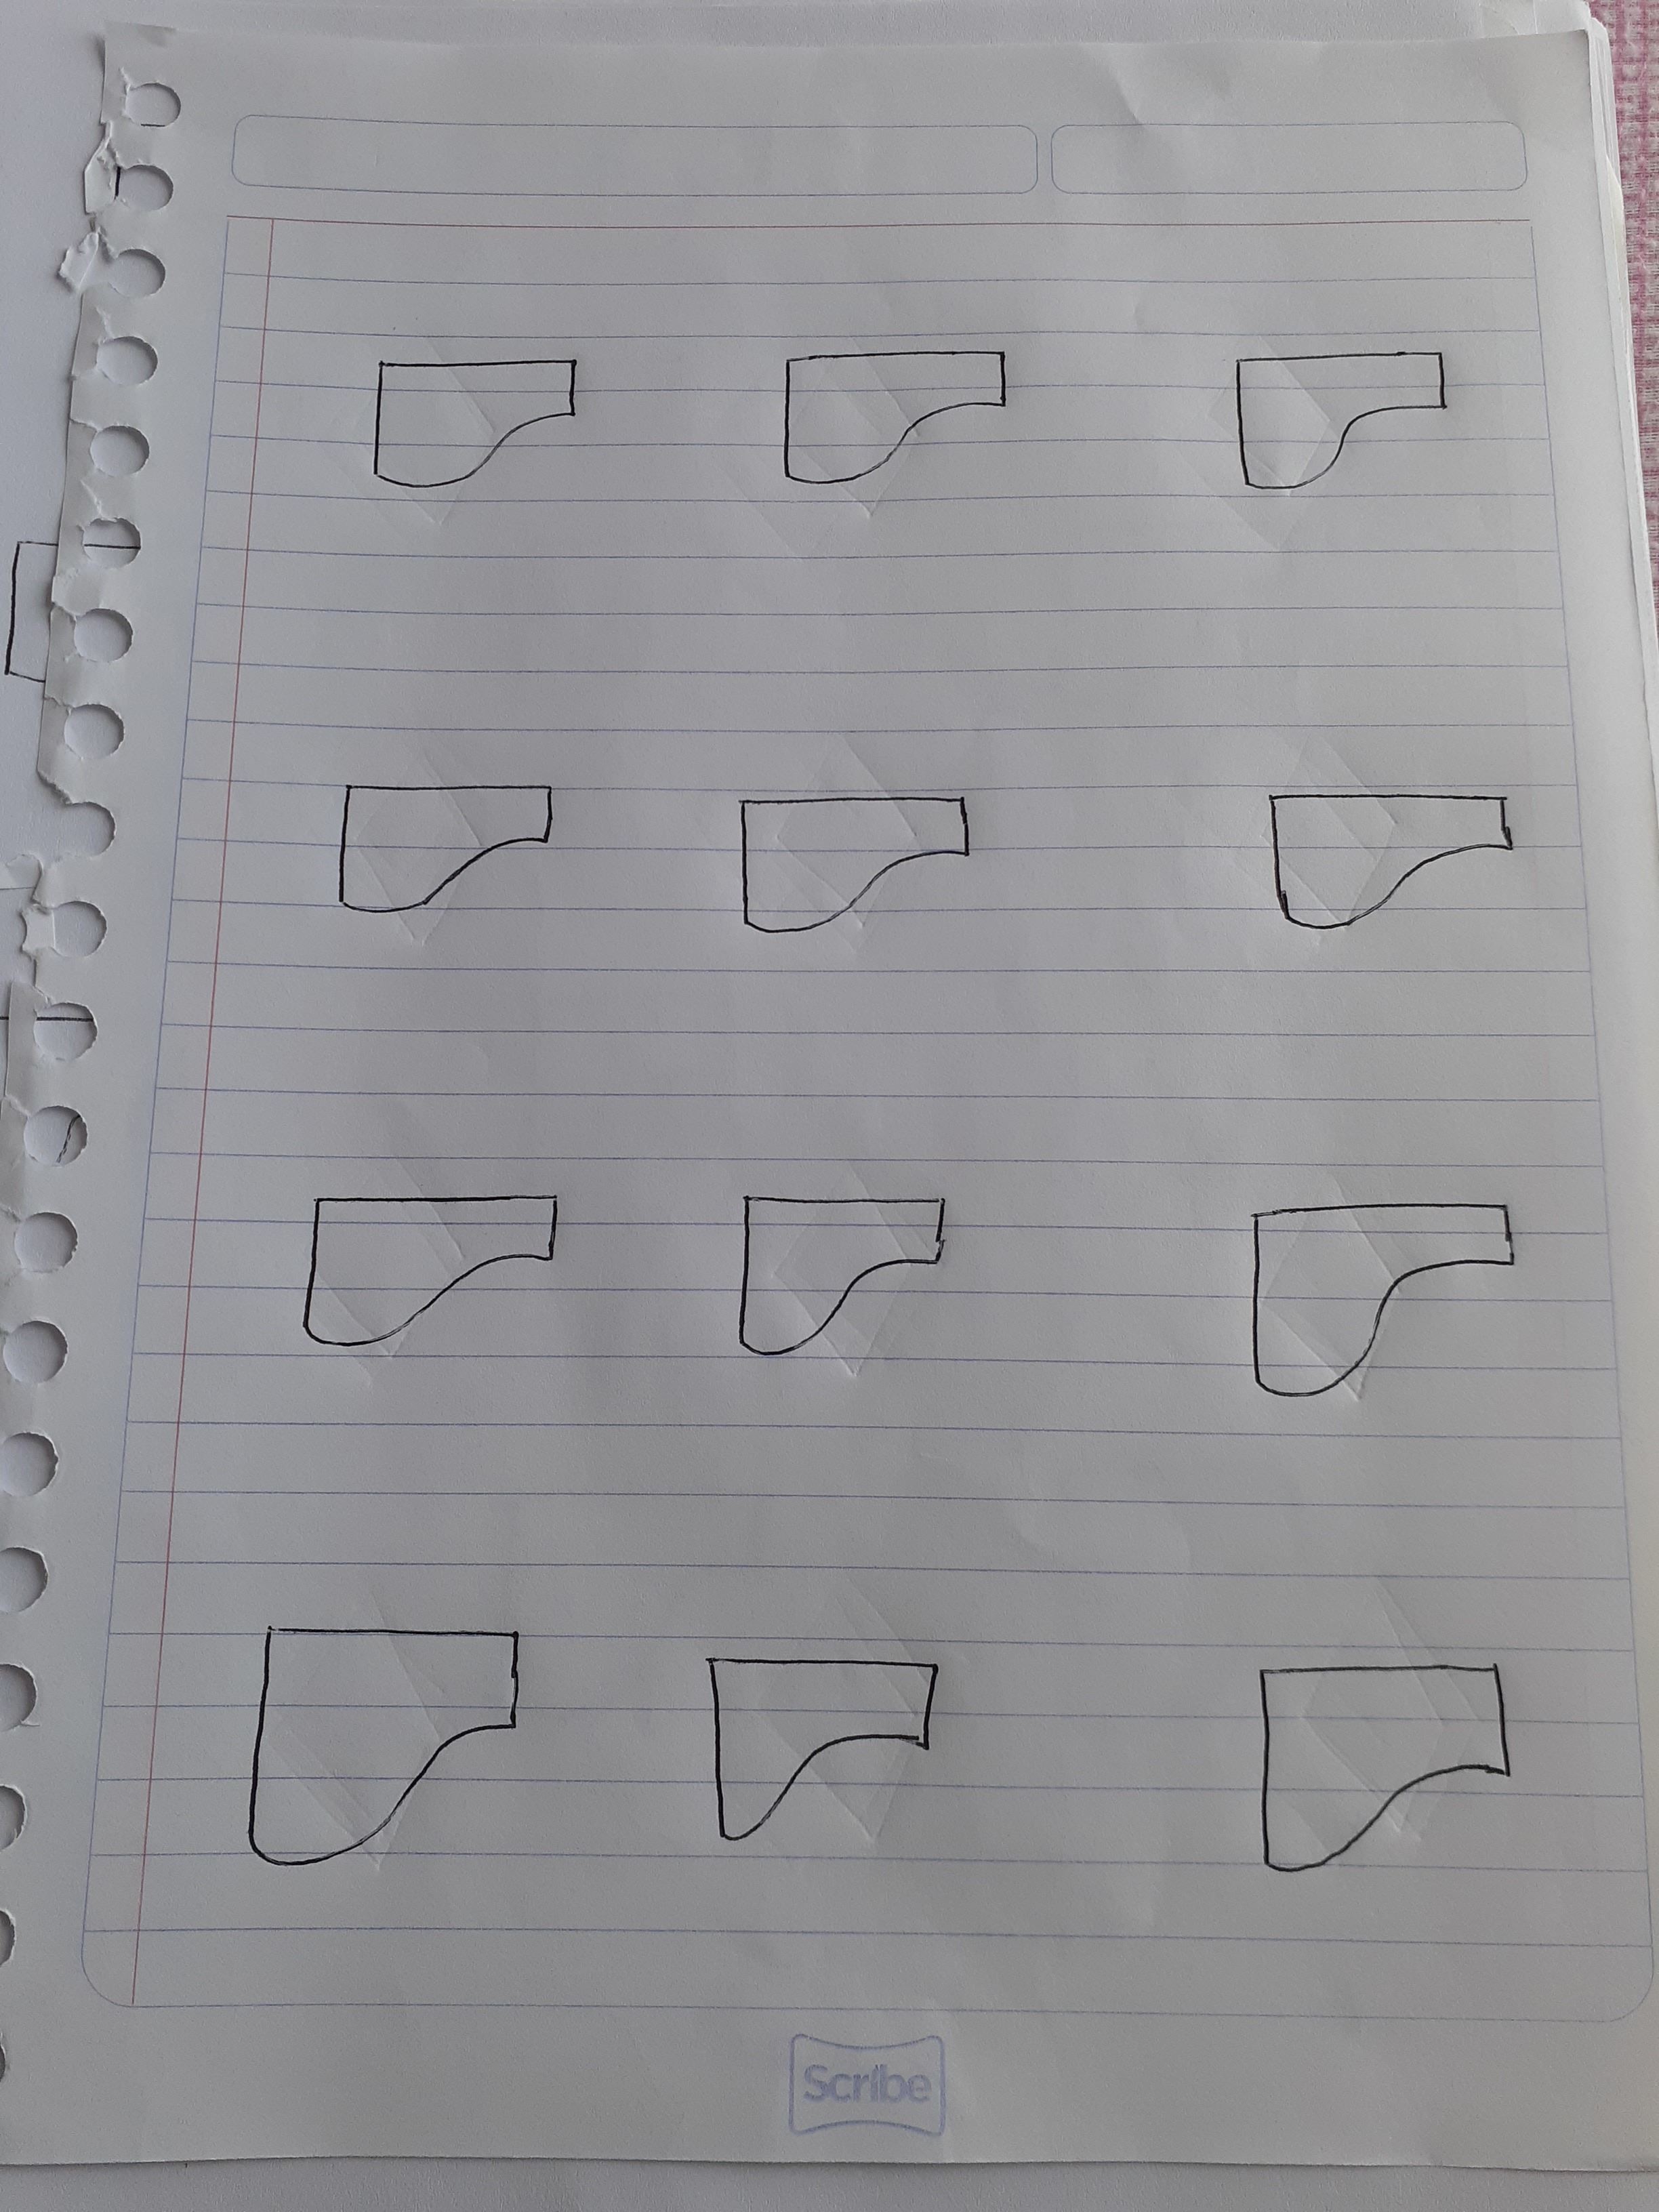print: (211, 1609, 533, 1893), (1230, 1642, 1535, 1898), (680, 1625, 985, 1865), (1227, 1177, 1535, 1409), (270, 1162, 591, 1374), (721, 777, 1018, 968), (1208, 327, 1500, 521), (728, 1160, 976, 1374), (1251, 773, 1558, 937), (769, 336, 1033, 507), (319, 352, 626, 498), (291, 780, 593, 925)
